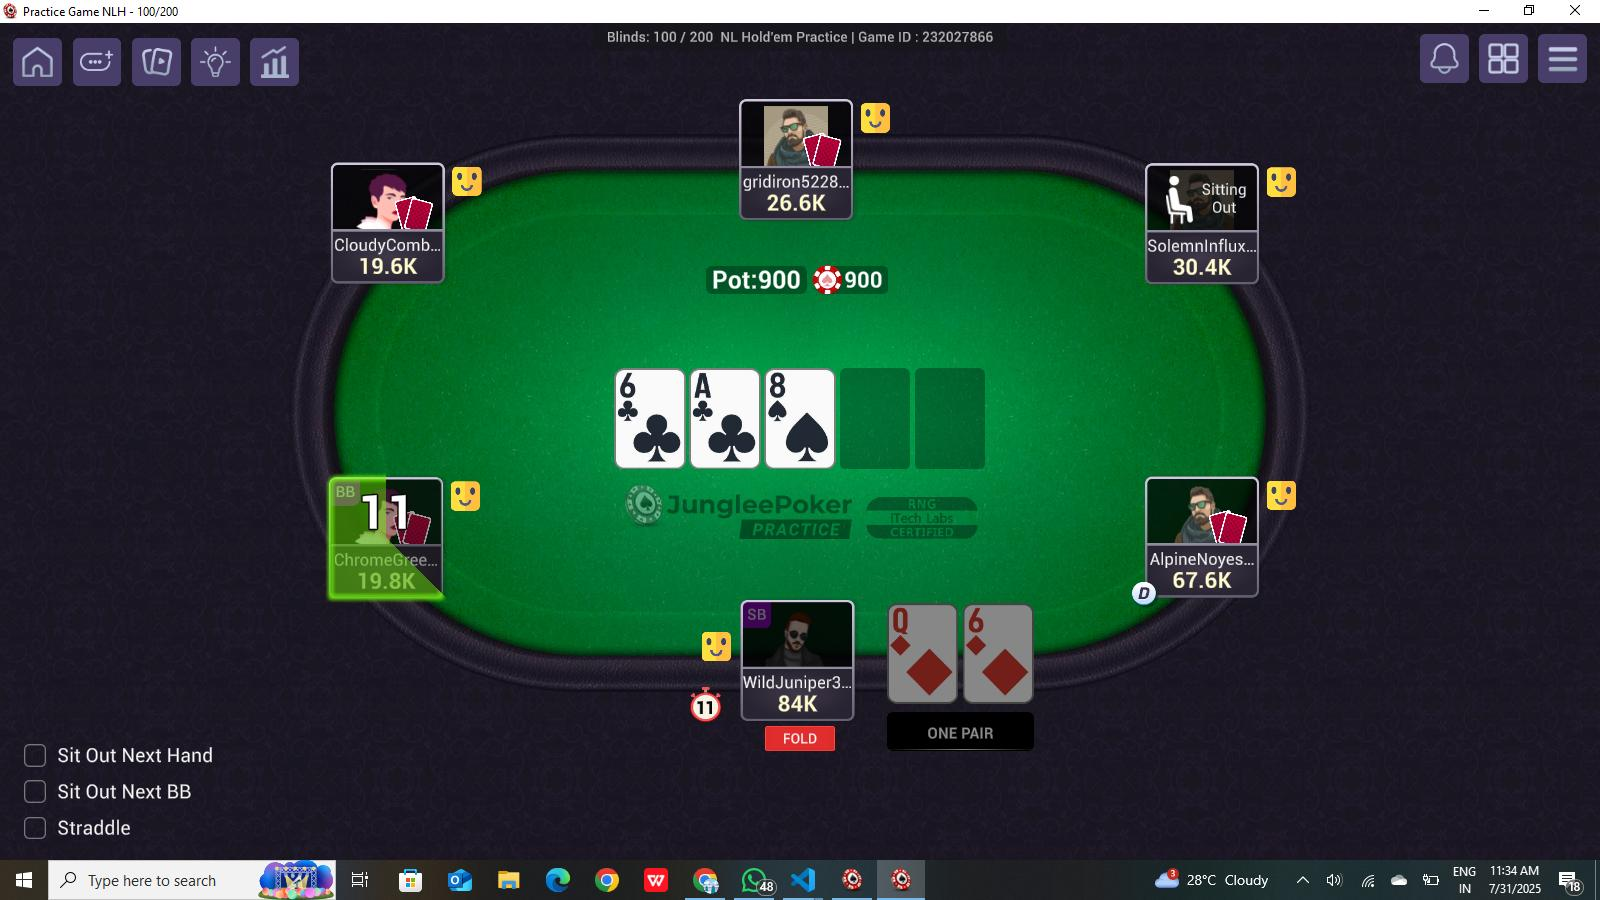card1_rank: (884, 603, 957, 640)
card1_suite_diamond: (900, 635, 956, 701)
card2_rank: (966, 604, 1035, 637)
card2_suite_diamond: (976, 635, 1035, 700)
flop1_rank: (616, 370, 677, 407)
flop1_suite_club: (632, 404, 684, 466)
flop2_rank: (688, 368, 760, 413)
flop2_suite_club: (704, 409, 757, 466)
flop3_rank: (766, 367, 835, 410)
flop3_suite_spades: (778, 404, 833, 466)
game_id: (849, 21, 1002, 55)
my_stack: (744, 689, 849, 720)
position_BB: (332, 473, 364, 520)
position_SB: (742, 601, 774, 634)
total_pot: (708, 263, 889, 295)
villian1_name: (327, 543, 442, 571)
villian1_stack: (327, 565, 438, 599)
villian2_name: (332, 226, 440, 259)
villian2_stack: (327, 248, 445, 282)
villian3_name: (740, 167, 849, 195)
villian3_stack: (740, 189, 854, 216)
villian4_name: (1144, 226, 1254, 256)
villian4_stack: (1144, 246, 1257, 282)
villian5_name: (1144, 545, 1258, 569)
villian5_stack: (1148, 565, 1255, 593)
